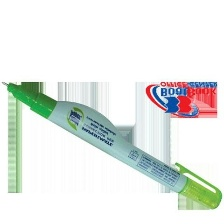correction_fluid: (0, 78, 222, 210)
